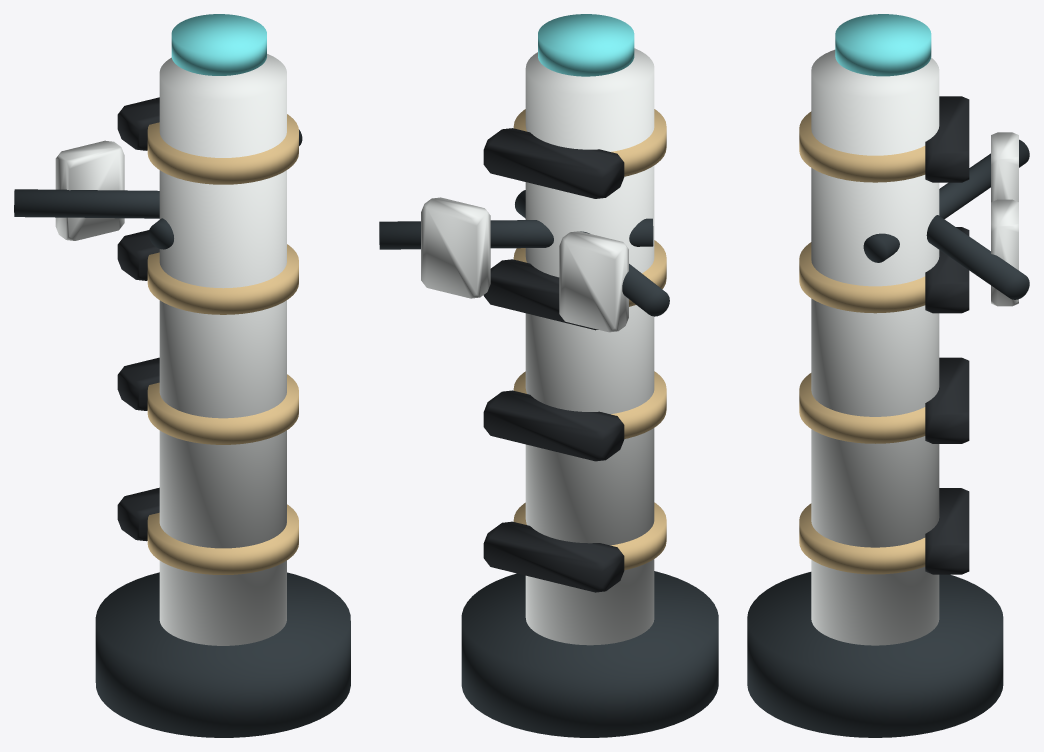
The model's file is room_l5_v4_clamp_relay_column.glb.
3 views of the same model, side by side, from view 1: azimuth 30°, elevation 25°; view 2: azimuth 150°, elevation 25°; view 3: azimuth 270°, elevation 25° (orthographic).
Visible parts, largest first — view 1: white_relay_spine, graphite_round_base, top_cyan_relay_lens, brass_relay_collar_1.5, brass_relay_collar_1.14, brass_relay_collar_0.78, brass_relay_collar_0.42, ceramic_clamp_pad_-0.55, angled_clamp_arm_-0.55, black_relay_pad_1.5, black_relay_pad_0.42, black_relay_pad_0.78 (+2 smaller); view 2: white_relay_spine, graphite_round_base, black_relay_pad_1.5, black_relay_pad_0.42, ceramic_clamp_pad_0.55, black_relay_pad_0.78, ceramic_clamp_pad_-0.55, top_cyan_relay_lens, angled_clamp_arm_0.55, black_relay_pad_1.14, brass_relay_collar_1.5, brass_relay_collar_0.42 (+3 smaller); view 3: white_relay_spine, graphite_round_base, top_cyan_relay_lens, brass_relay_collar_0.42, brass_relay_collar_1.5, brass_relay_collar_0.78, brass_relay_collar_1.14, black_relay_pad_0.42, black_relay_pad_1.5, black_relay_pad_0.78, angled_clamp_arm_0.55, angled_clamp_arm_-0.55 (+3 smaller).
Part boxes in pixels (bbox=[...]): white_relay_spine: bbox=[159, 54, 286, 645]; graphite_round_base: bbox=[95, 572, 350, 737]; top_cyan_relay_lens: bbox=[171, 14, 266, 75]; brass_relay_collar_1.5: bbox=[147, 114, 298, 184]; brass_relay_collar_1.14: bbox=[147, 244, 298, 314]; brass_relay_collar_0.78: bbox=[147, 374, 298, 444]; brass_relay_collar_0.42: bbox=[147, 504, 298, 574]; ceramic_clamp_pad_-0.55: bbox=[55, 140, 124, 240]; angled_clamp_arm_-0.55: bbox=[14, 189, 159, 218]; black_relay_pad_1.5: bbox=[117, 97, 159, 150]; black_relay_pad_0.42: bbox=[117, 487, 159, 541]; black_relay_pad_0.78: bbox=[117, 357, 159, 410]; white_relay_spine: bbox=[525, 48, 654, 645]; graphite_round_base: bbox=[461, 571, 718, 737]; black_relay_pad_1.5: bbox=[483, 128, 624, 198]; black_relay_pad_0.42: bbox=[483, 521, 624, 592]; ceramic_clamp_pad_0.55: bbox=[421, 197, 490, 298]; black_relay_pad_0.78: bbox=[483, 390, 624, 461]; ceramic_clamp_pad_-0.55: bbox=[559, 231, 628, 332]; top_cyan_relay_lens: bbox=[538, 14, 634, 76]; angled_clamp_arm_0.55: bbox=[379, 218, 653, 249]; black_relay_pad_1.14: bbox=[483, 259, 598, 330]; brass_relay_collar_1.5: bbox=[513, 109, 666, 176]; brass_relay_collar_0.42: bbox=[513, 502, 666, 570]; white_relay_spine: bbox=[811, 49, 939, 645]; graphite_round_base: bbox=[747, 572, 1003, 737]; top_cyan_relay_lens: bbox=[835, 14, 931, 76]; brass_relay_collar_0.42: bbox=[799, 503, 925, 574]; brass_relay_collar_1.5: bbox=[799, 111, 925, 182]; brass_relay_collar_0.78: bbox=[799, 373, 925, 443]; brass_relay_collar_1.14: bbox=[799, 242, 925, 313]; black_relay_pad_0.42: bbox=[925, 488, 969, 574]; black_relay_pad_1.5: bbox=[925, 96, 969, 182]; black_relay_pad_0.78: bbox=[925, 357, 969, 443]; angled_clamp_arm_0.55: bbox=[926, 215, 1029, 299]; angled_clamp_arm_-0.55: bbox=[863, 139, 1029, 262].
Bounding box in the file's own units: 0.8348 × 1.79 × 0.7057.
